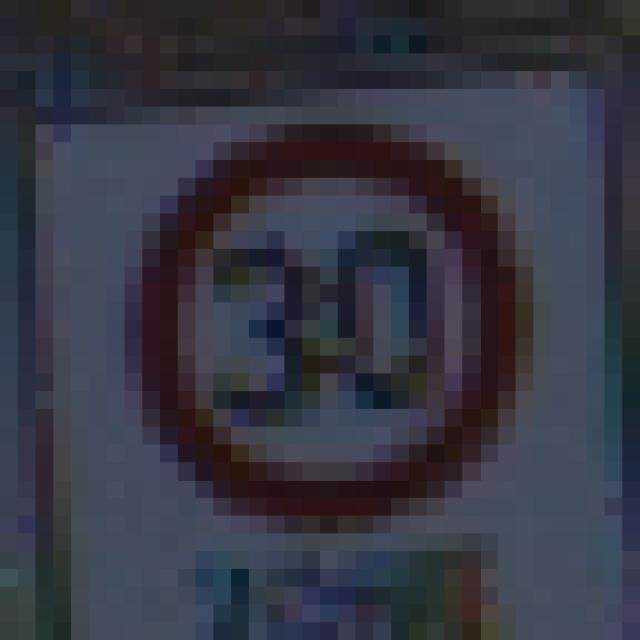Speed Limit -30-: (98, 80, 542, 542)
